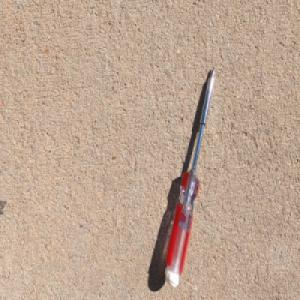Screwdriver: (163, 64, 216, 289)
